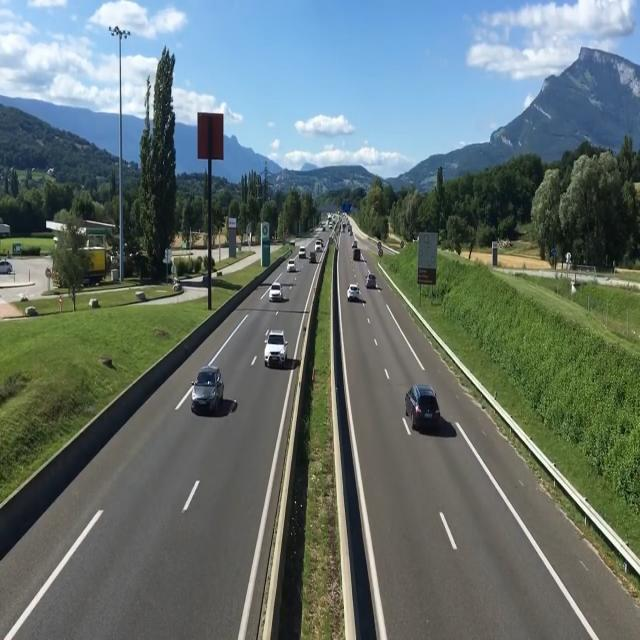car: (189, 360, 231, 419), (408, 382, 444, 436), (264, 323, 290, 376), (350, 234, 365, 266), (268, 281, 283, 307), (313, 230, 324, 264), (364, 267, 378, 292), (346, 284, 361, 307)
